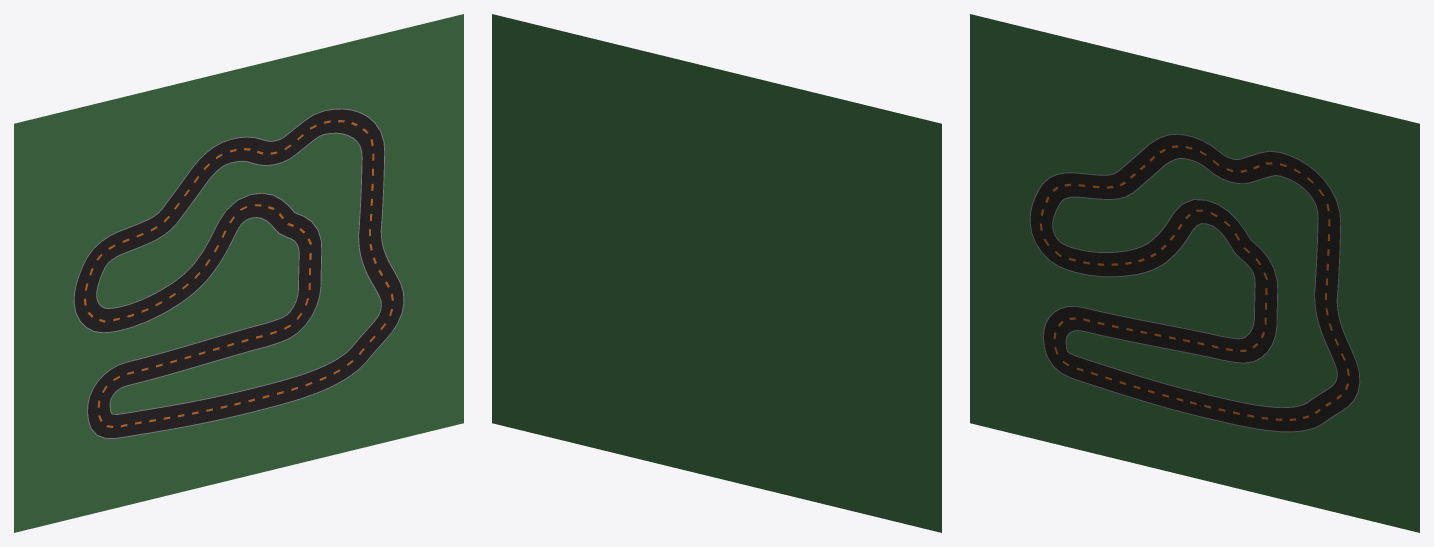
The model's file is track.obj.
The picture shows the model from 3 angles, left to right: view 1: azimuth 30°, elevation 25°; view 2: azimuth 150°, elevation 25°; view 3: azimuth 330°, elevation 25°; orthographic projection.
Size of the model in its own units: 20.47 by 17.79 by 0.0025.
4 materials, 4 textured.
